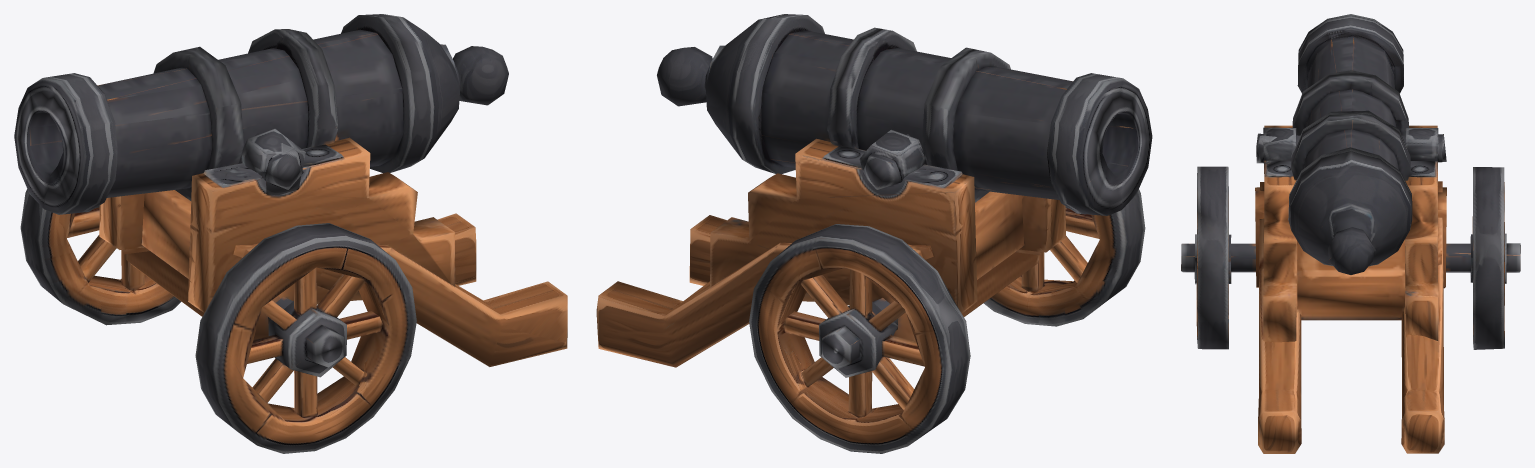
Rendered from meshy-chunky-carriage-1000.glb.
3 views of the same model, side by side, from view 1: azimuth 30°, elevation 25°; view 2: azimuth 150°, elevation 25°; view 3: azimuth 270°, elevation 25° (orthographic). The views are drawn at different scales.
Bounding box in the file's own units: 1 × 0.6889 × 0.7979.
1 material, 1 textured.
